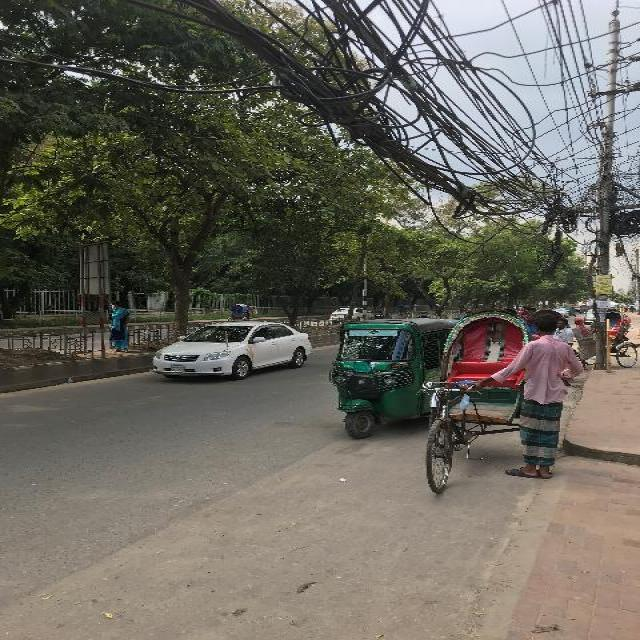vehicle: (414, 307, 532, 500), (328, 318, 455, 441), (147, 321, 314, 381), (607, 308, 639, 369), (331, 307, 375, 321), (228, 304, 254, 322), (552, 308, 570, 318), (565, 306, 577, 317), (580, 306, 590, 314)
